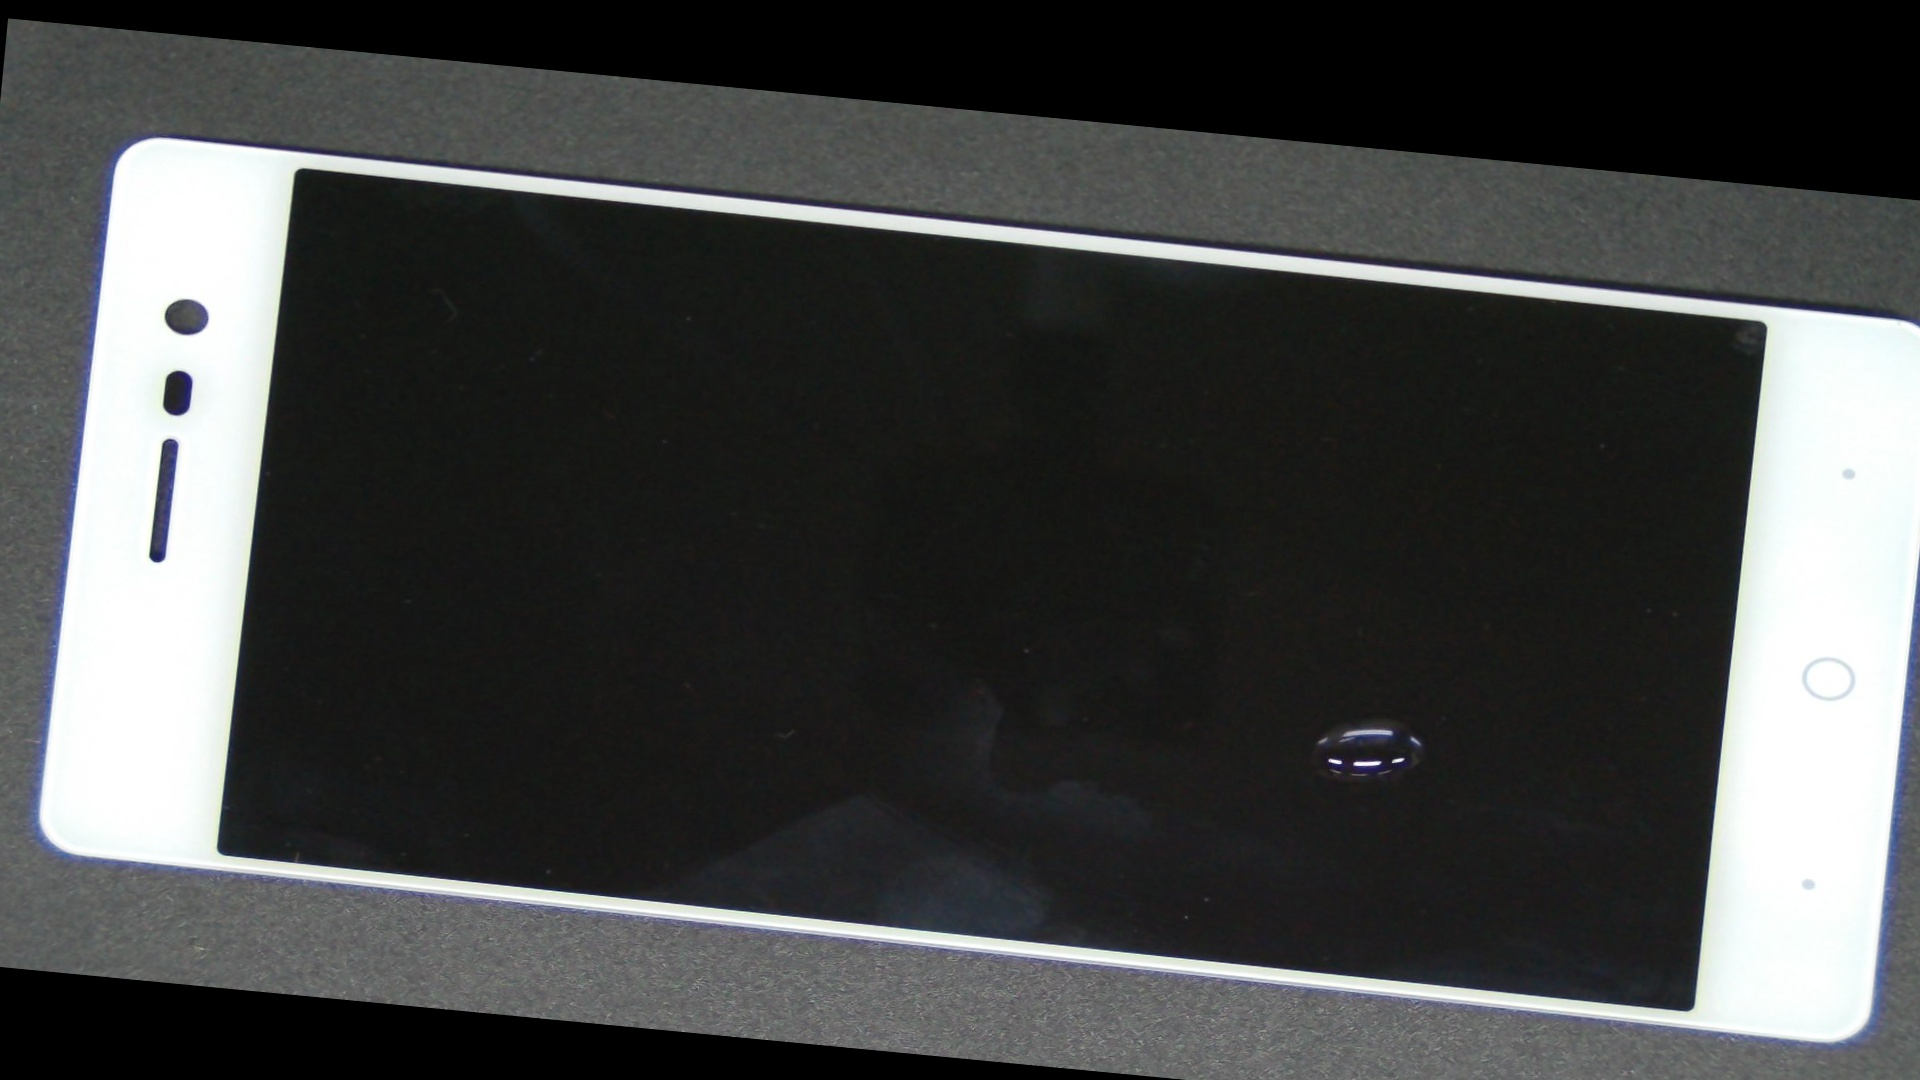oil: (645, 368, 1920, 1058)
